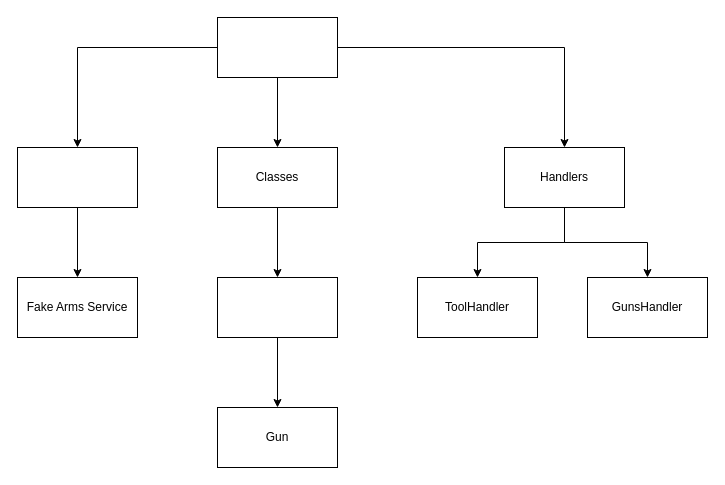
Image size: 725x485. Some labels were removed from this diagram. The shapes that lost their labels are listed below. From the top down, each one's centre as x and y in pixels, then its label:
At point (277, 47): "Tool System".
At point (77, 177): "Services".
At point (277, 307): "Tool".
